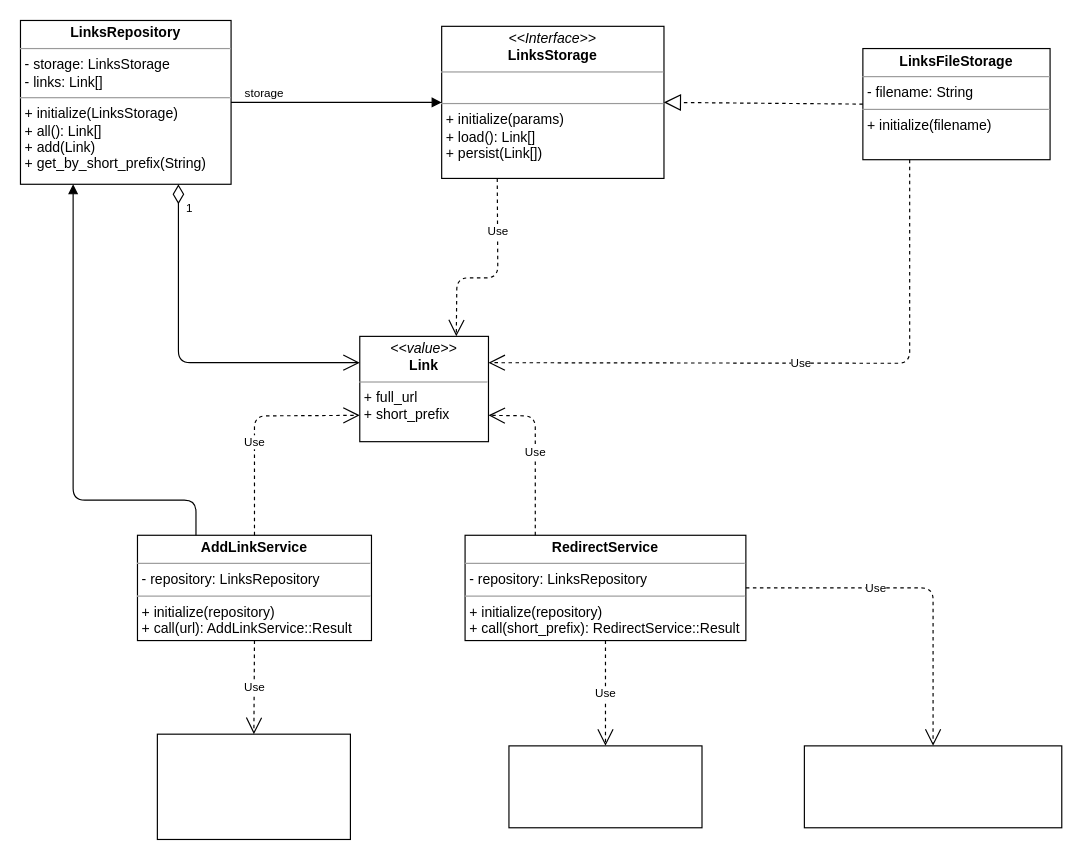
The diagram is 1082 pixels wide and 860 high, and some of its shapes have lost their labels. Each missing label, with the box of its shape:
<<exception>> RedirectService::UrlNotFoundError + message: (803, 745, 1062, 828)
<<value>> AddLinkService::Result + full_url + short_prefix: (156, 733, 350, 839)
<<value>> RedirectService::Result + full_url: (508, 745, 702, 828)
